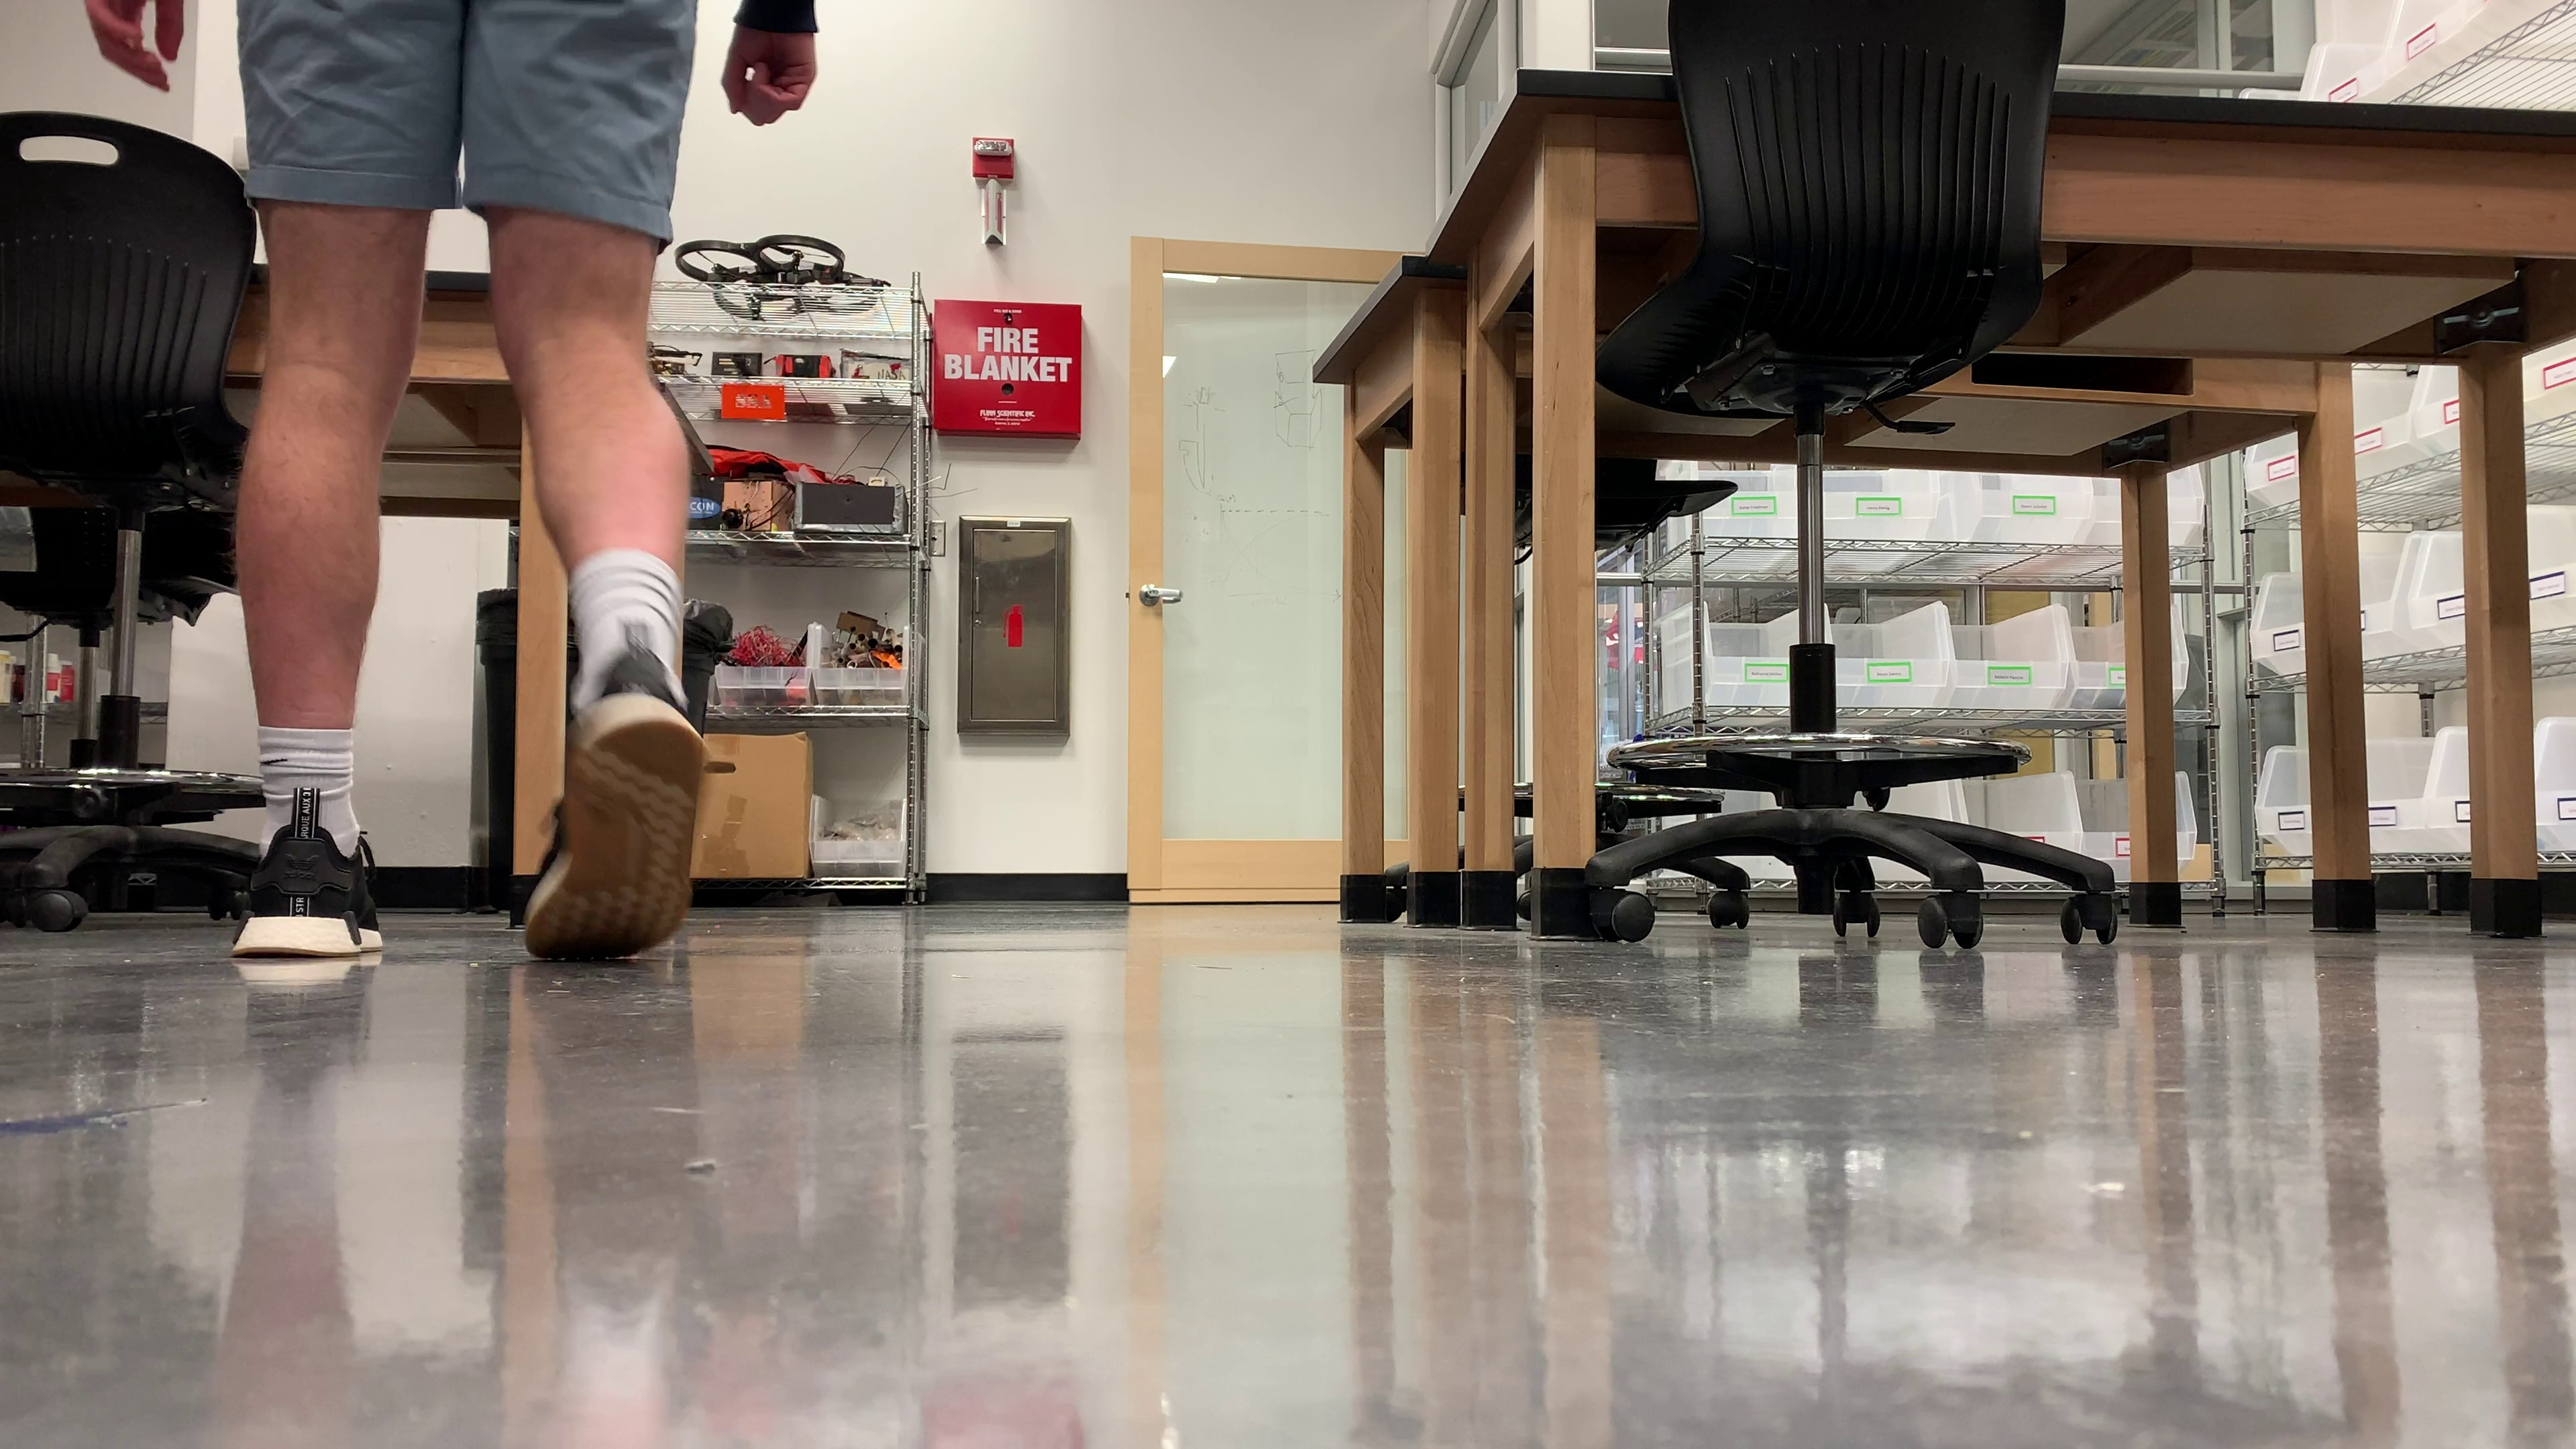shoe: (525, 649, 704, 957), (239, 824, 384, 955)
